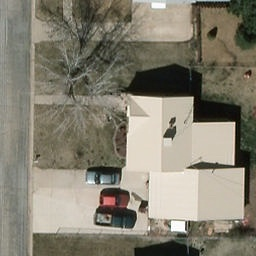car: (96, 193, 129, 211), (84, 171, 122, 186)
pickup: (86, 209, 138, 233)
